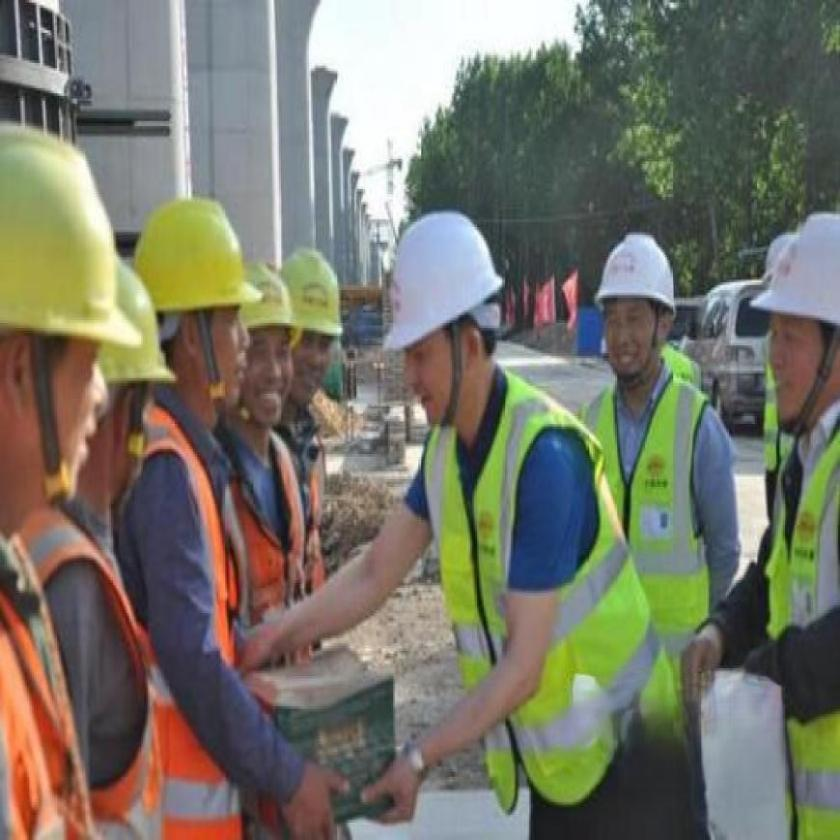Con_casco: (0, 122, 142, 558), (133, 186, 268, 440), (378, 199, 513, 423), (749, 214, 840, 448), (233, 259, 304, 447), (278, 246, 347, 432), (596, 227, 676, 385)
